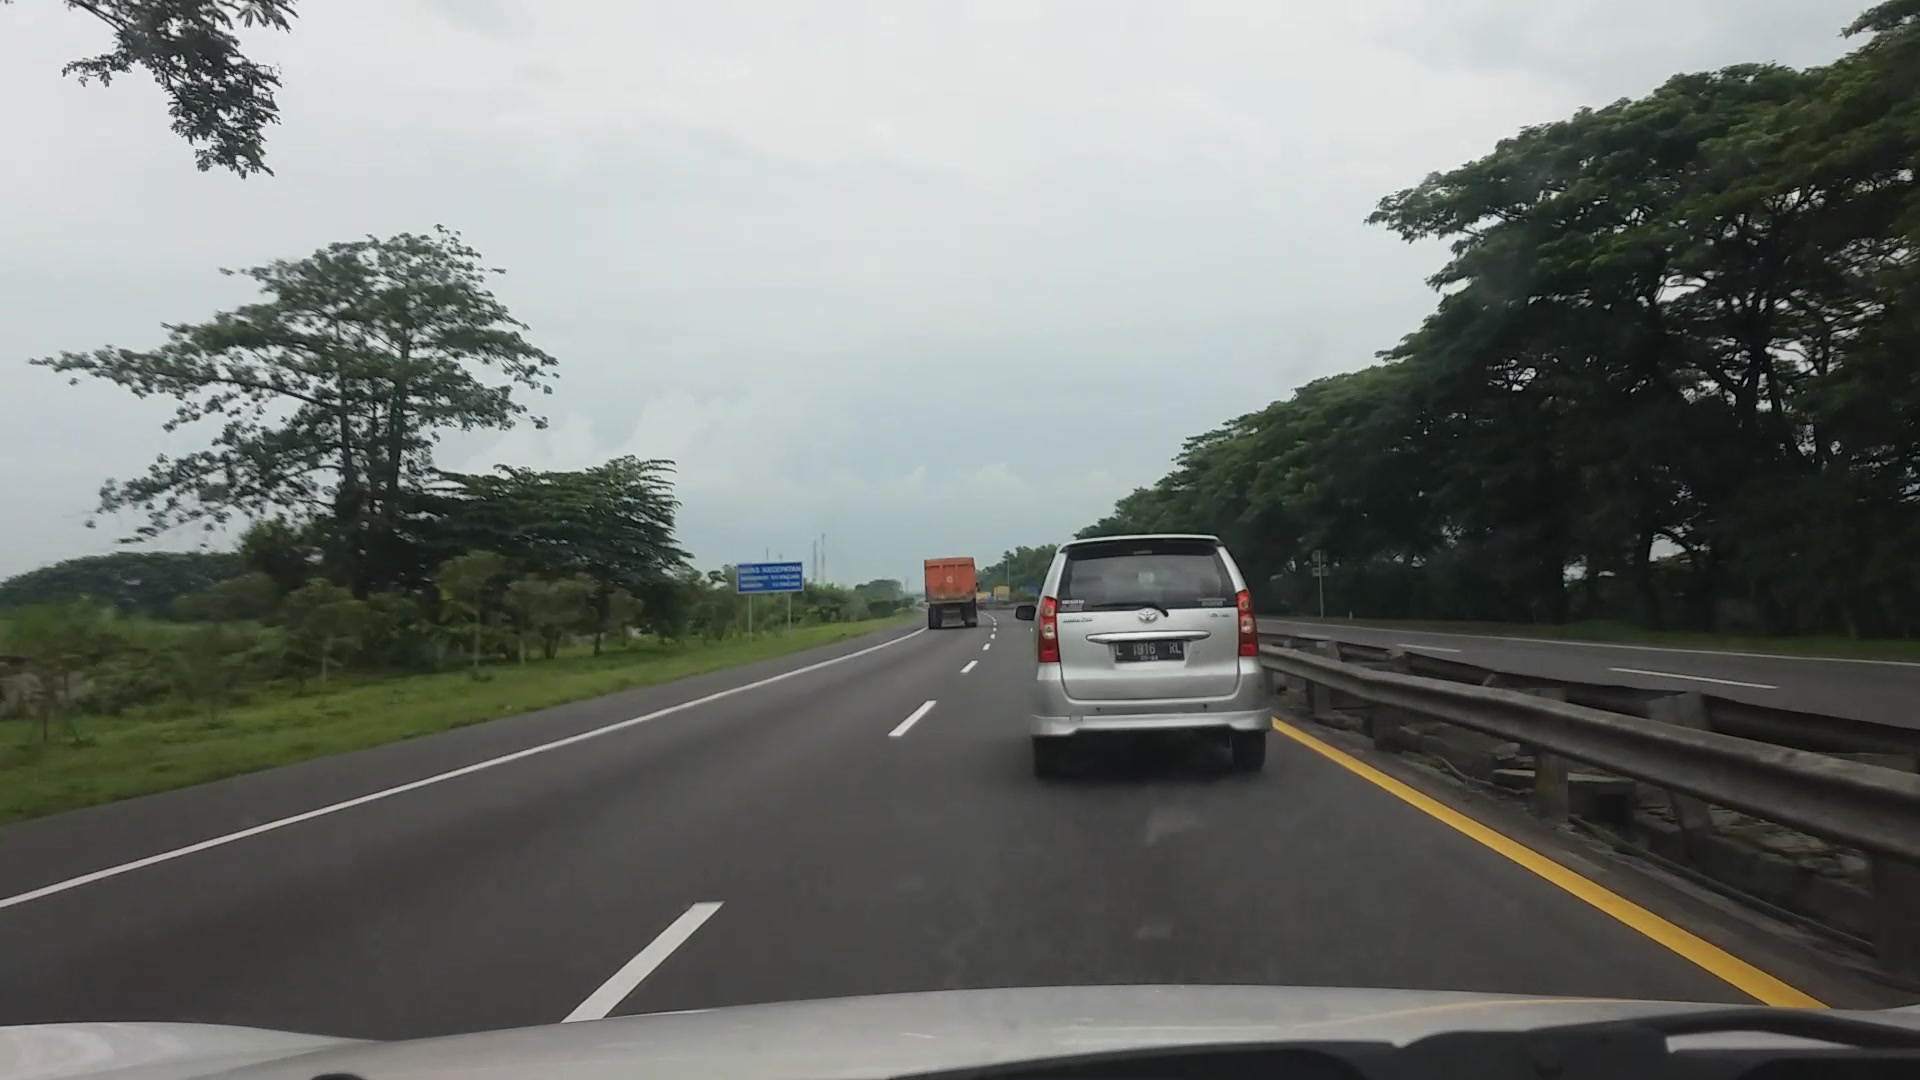plate_positive: (1116, 640, 1184, 663)
